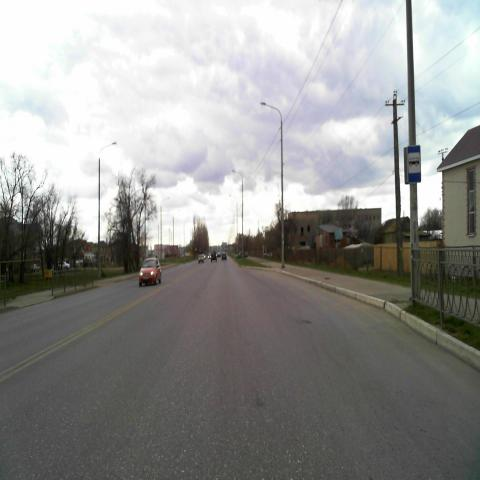5_16: (407, 145, 421, 182)
